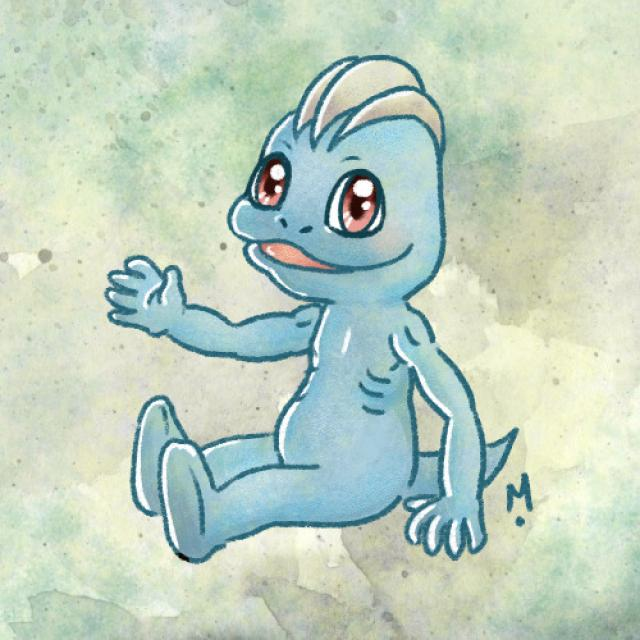Machop: (106, 48, 503, 571)
